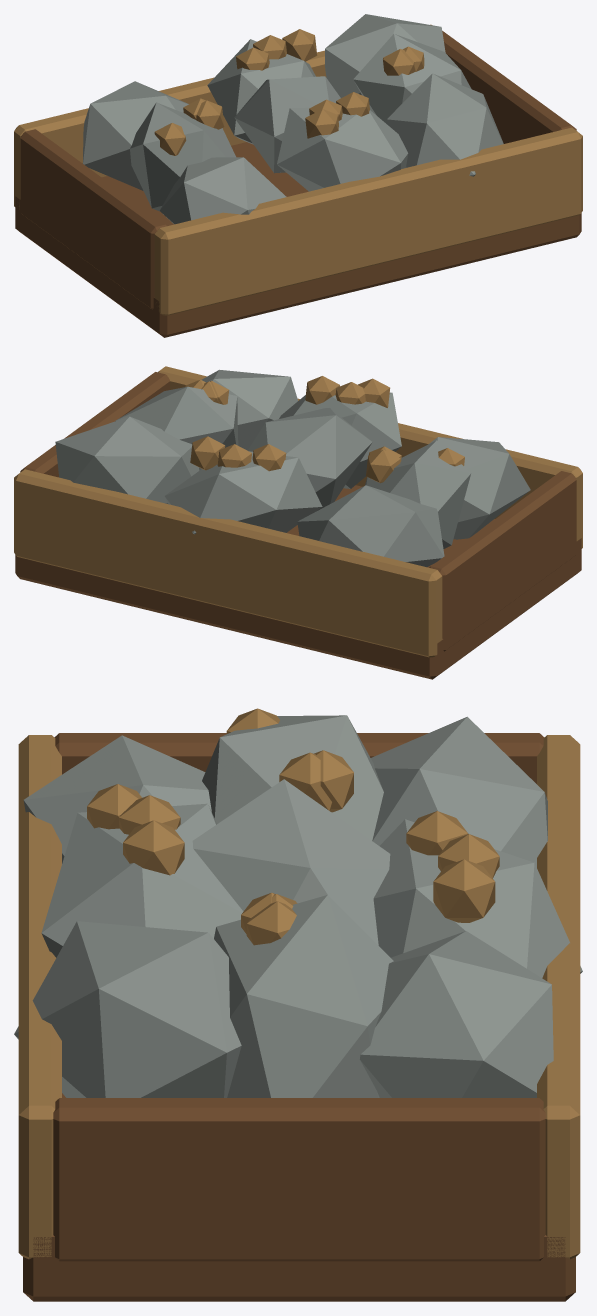
Rendered from stone_ore_tray.glb.
3 renders of one model, top to bottom at view 1: azimuth 30°, elevation 25°; view 2: azimuth 150°, elevation 25°; view 3: azimuth 270°, elevation 25°, orthographic. The views are drawn at different scales.
Visible parts, largest first — view 1: stone_ore_tray; view 2: stone_ore_tray; view 3: stone_ore_tray.
Boxes of the visible parts, x1=… form: stone_ore_tray: x1=14, y1=14, x2=582, y2=337; stone_ore_tray: x1=14, y1=366, x2=582, y2=679; stone_ore_tray: x1=14, y1=708, x2=582, y2=1301.
Size of the model in its own units: 0.525 by 0.2005 by 0.3293.
